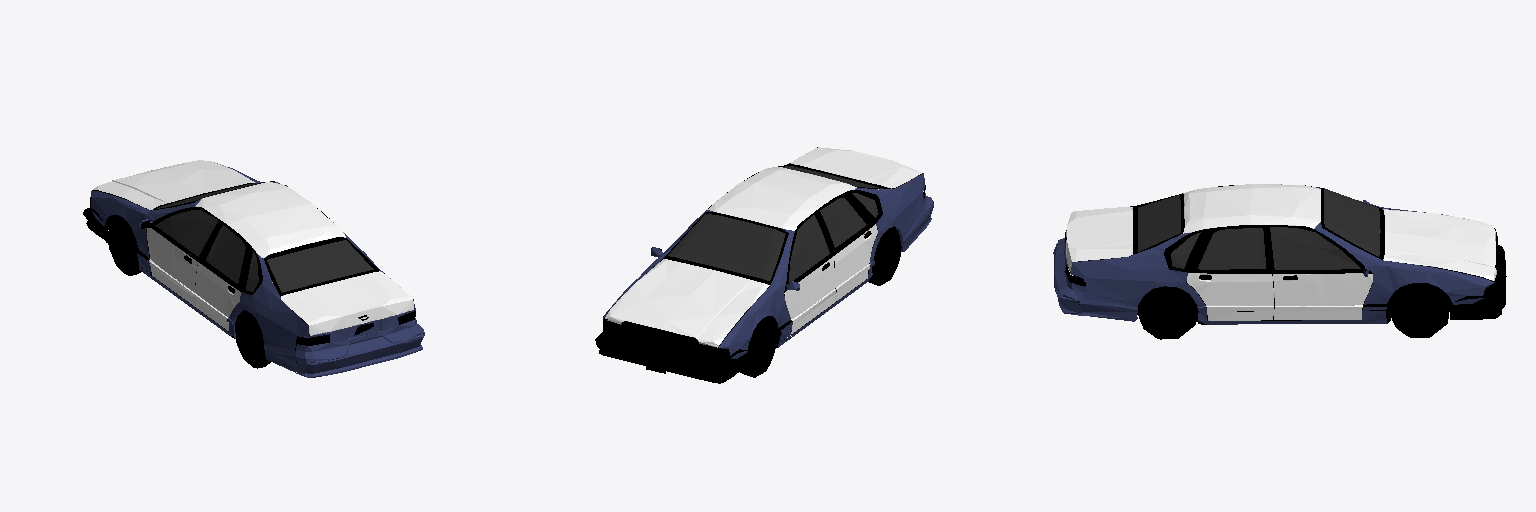
3 views of the same model, side by side, from view 1: azimuth 30°, elevation 25°; view 2: azimuth 150°, elevation 25°; view 3: azimuth 270°, elevation 25° (orthographic).
Visible parts, largest first — view 1: xfl_full:Mesh; view 2: xfl_full:Mesh; view 3: xfl_full:Mesh.
Boxes of the visible parts, <box> form: xfl_full:Mesh: <box>83,160,424,377</box>; xfl_full:Mesh: <box>595,147,933,383</box>; xfl_full:Mesh: <box>1053,184,1506,339</box>.
Size of the model in its own units: 6.8 by 4.76 by 17.85.
11 materials, 1 textured.